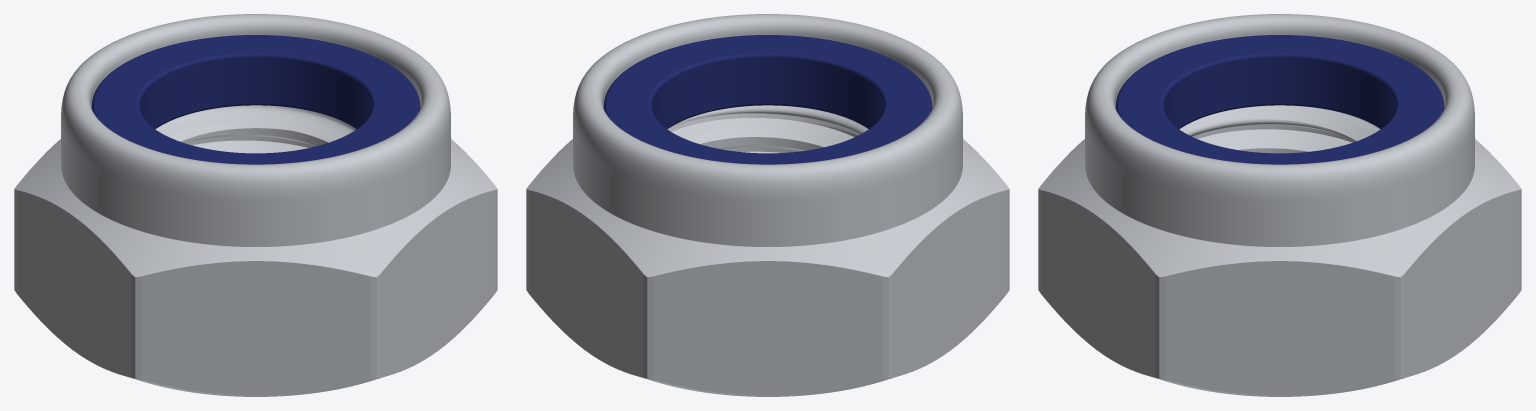
File: handlebar-mount-nyloc-v3-inspection.glb
3 renders of one model, left to right at view 1: azimuth 30°, elevation 25°; view 2: azimuth 150°, elevation 25°; view 3: azimuth 270°, elevation 25°, orthographic.
Visible parts, largest first — view 1: Locknut metal body - conditionalDIN985M10 with original fema, Nonmetal locking insert - unloaded visualestimate; view 2: Locknut metal body - conditionalDIN985M10 with original fema, Nonmetal locking insert - unloaded visualestimate; view 3: Locknut metal body - conditionalDIN985M10 with original fema, Nonmetal locking insert - unloaded visualestimate.
Part boxes in pixels (box(x1,y1,x2,y2)): Locknut metal body - conditionalDIN985M10 with original fema: box(14, 14, 497, 396); Nonmetal locking insert - unloaded visualestimate: box(91, 35, 420, 164); Locknut metal body - conditionalDIN985M10 with original fema: box(526, 14, 1009, 396); Nonmetal locking insert - unloaded visualestimate: box(603, 35, 932, 164); Locknut metal body - conditionalDIN985M10 with original fema: box(1038, 14, 1521, 396); Nonmetal locking insert - unloaded visualestimate: box(1115, 35, 1444, 164).
Bounding box in the file's own units: 0.017 × 0.01 × 0.0196.
